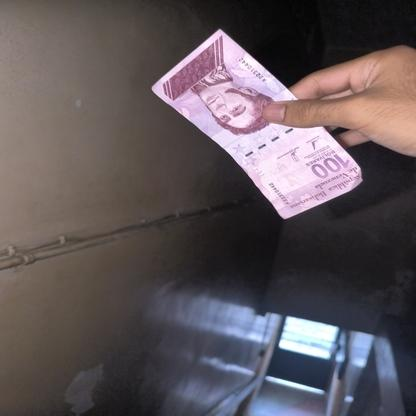one_hundred-front-vef: (150, 27, 364, 220)
